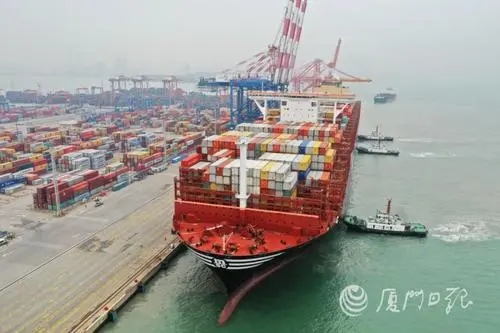Cargoship: (182, 95, 362, 297)
otherboat: (342, 197, 432, 236), (360, 137, 403, 154), (356, 124, 396, 142)
